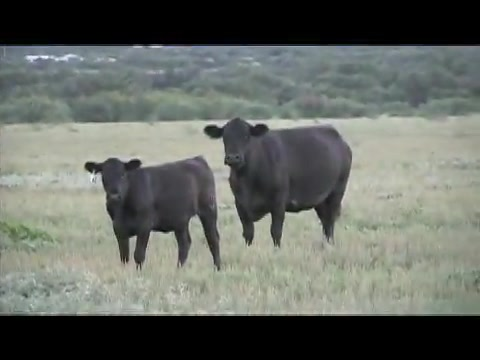cow: (205, 115, 355, 249), (84, 157, 224, 272)
